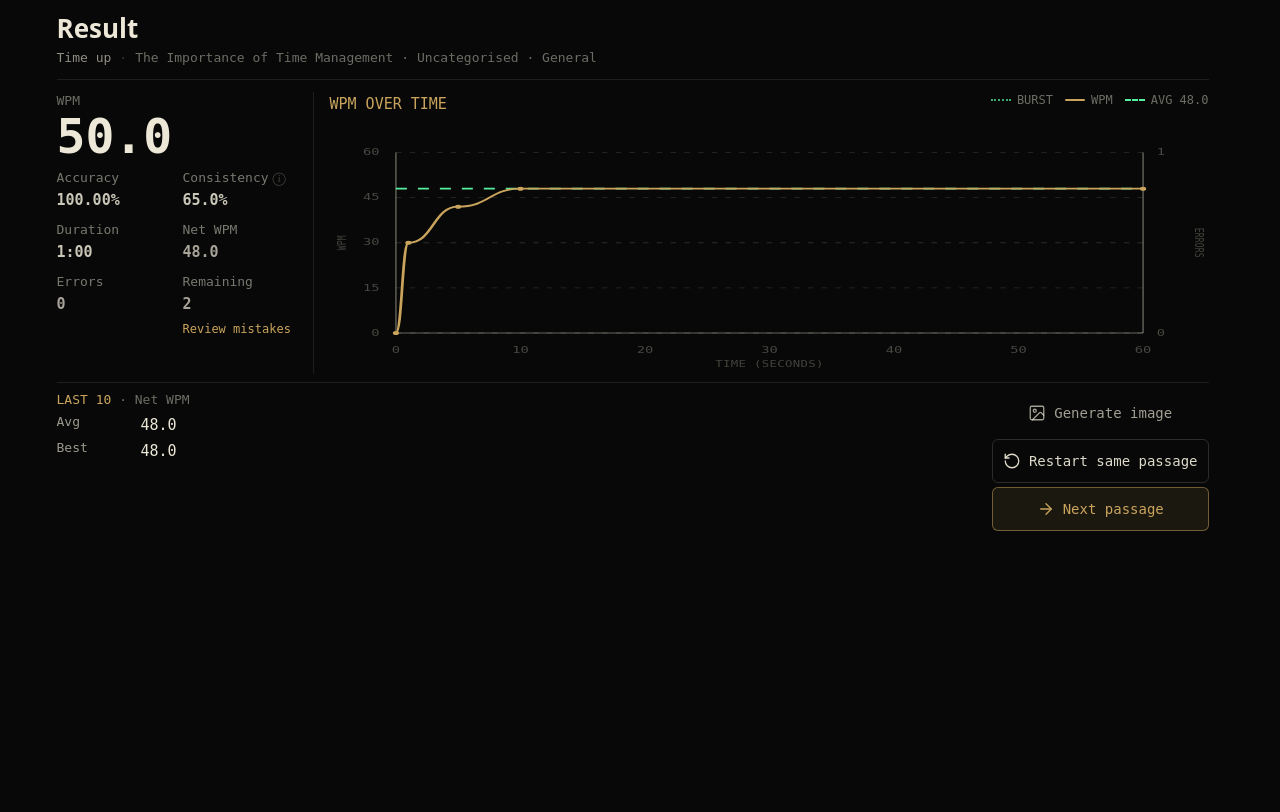
Scenario: ResultDashboard › keeps nonzero mistake review keyboard reachable without trapping page focus
The width and height of the screenshot is (1280, 812).
Expected: the text "Session review" is not shown
What coordinates should you click on to do the following:
click the button "Review mistakes"
I would click on:
 (237, 328)
Its box is [182, 320, 291, 336].
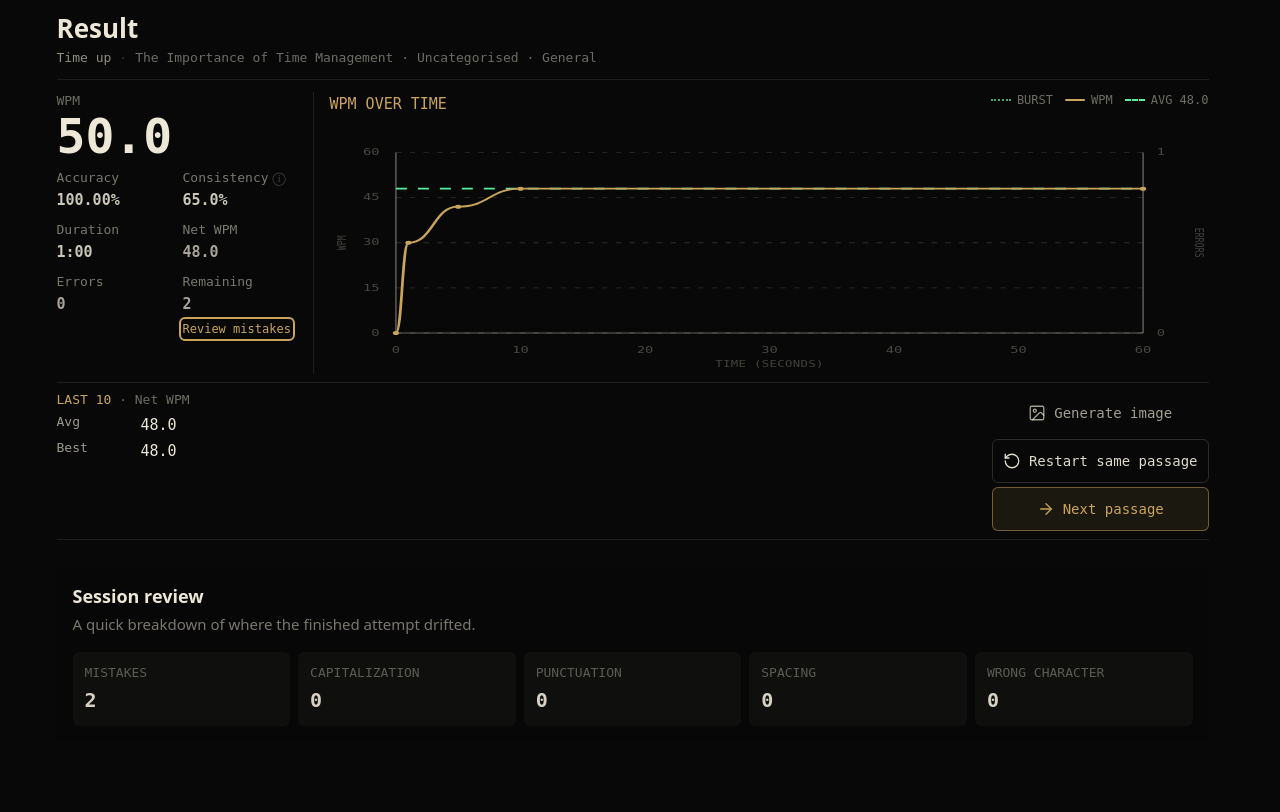
Now the heading "Session review" is shown, box [72, 584, 204, 608]
